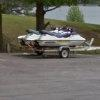Boat: (16, 22, 87, 60)
